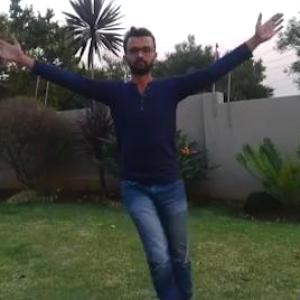takeoff: (1, 17, 284, 288)
